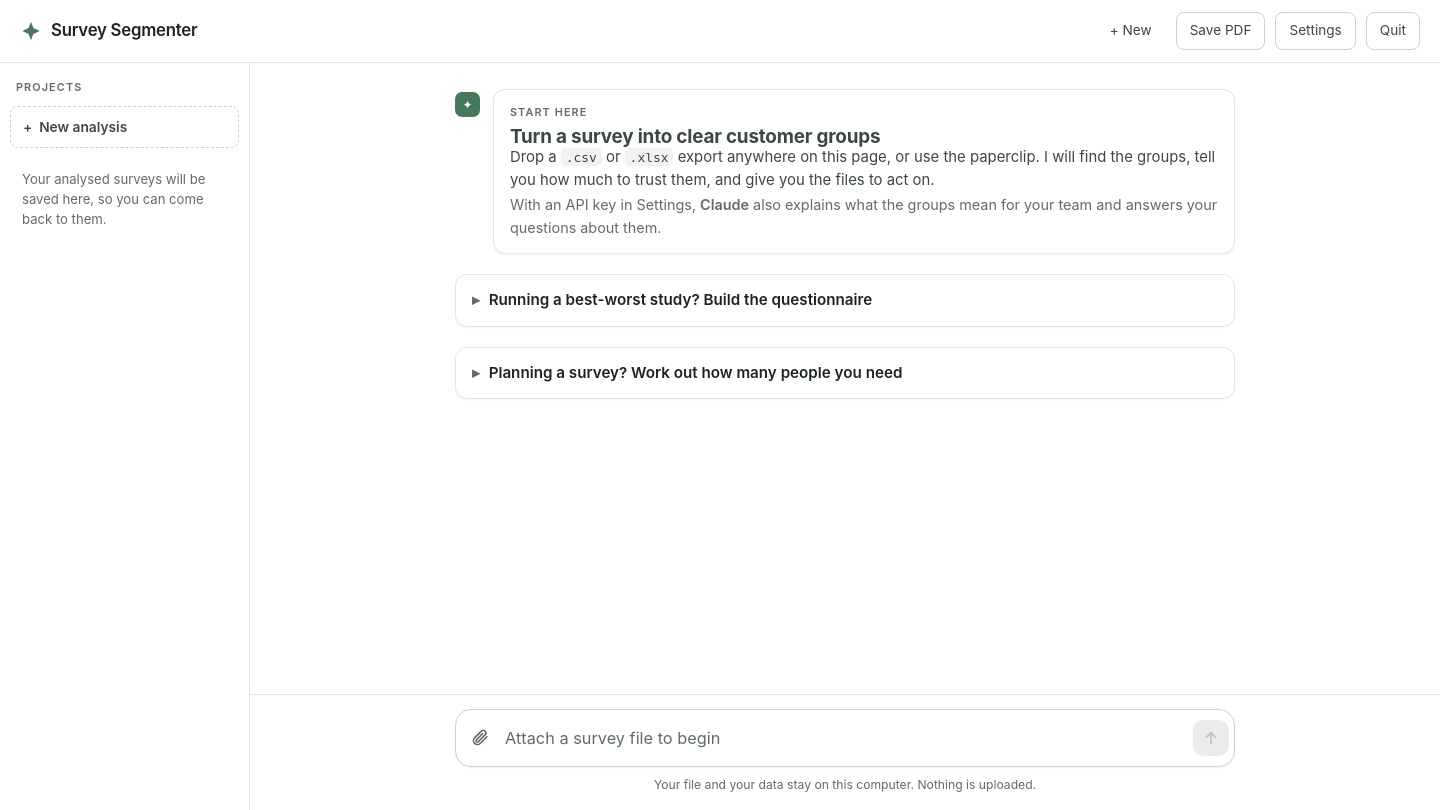
it: asking questions about the result › refuses to send a question before there is anything to discuss
Step 1. Type "which segment is biggest?" into the text box with placeholder "Attach a survey file to begin" → (845, 738), box x1=501 y1=715 x2=1189 y2=761
Then press Enter
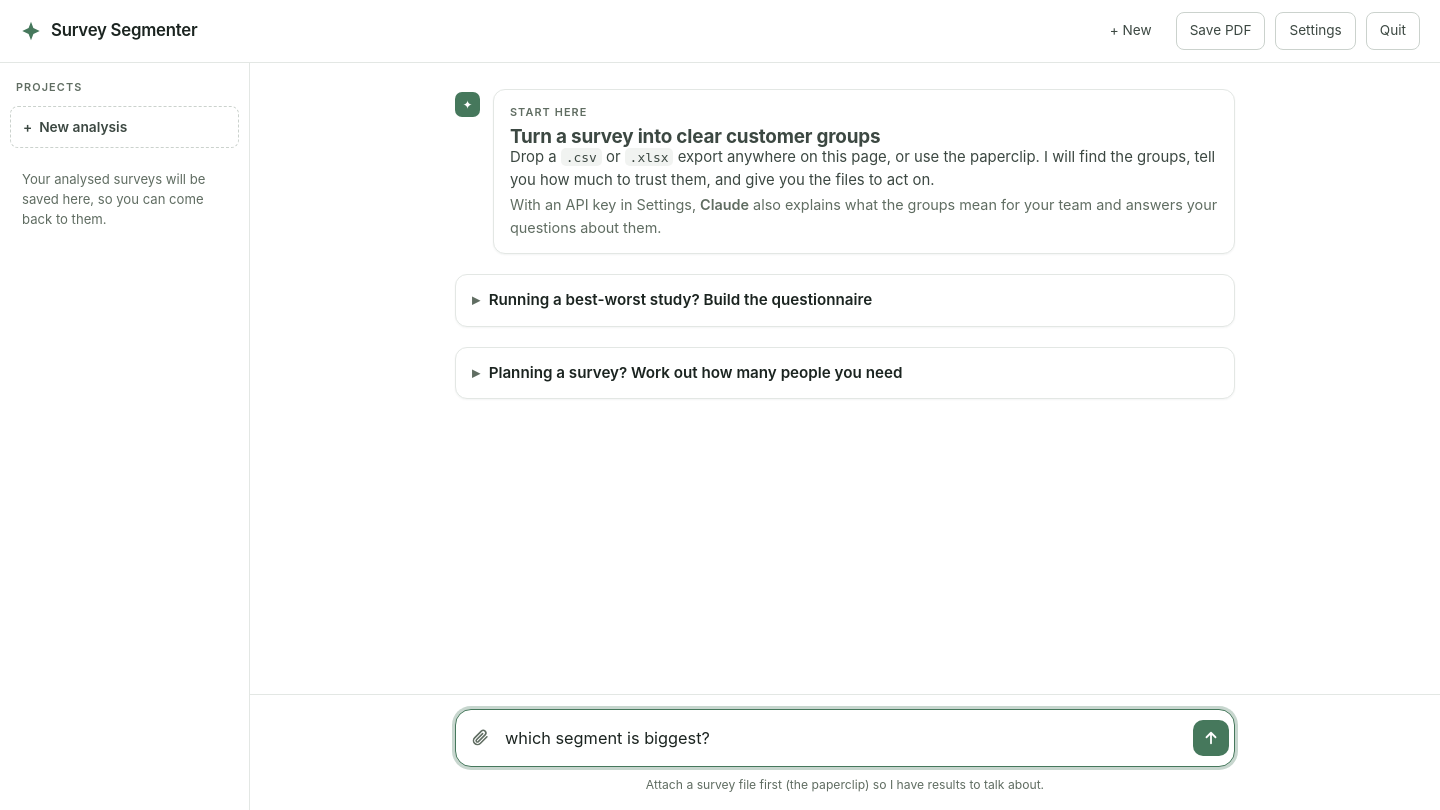
Result: the text "Attach a survey file first" is shown at x1=646 y1=777 x2=1044 y2=792
